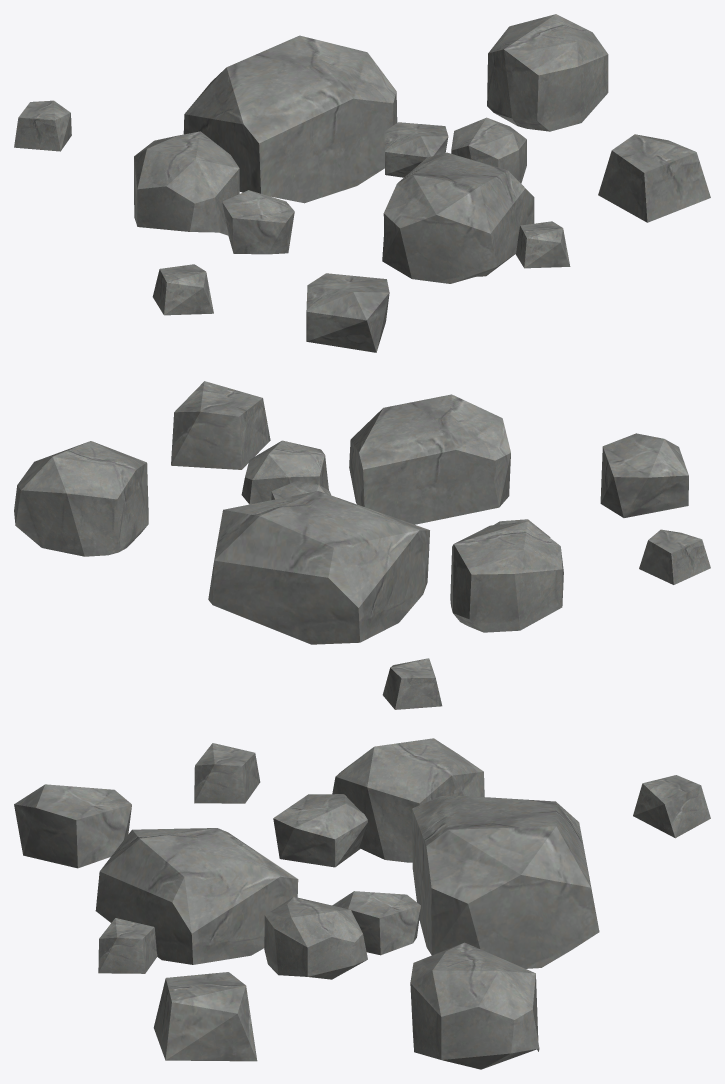
The model's file is CollectibleStone (4).fbx.
The picture shows the model from 3 angles, top to bottom: view 1: azimuth 30°, elevation 25°; view 2: azimuth 150°, elevation 25°; view 3: azimuth 270°, elevation 25°; orthographic projection. The views are drawn at different scales.
Parts seen in each view (by area): view 1: ItemBox_Pebbles_01; view 2: ItemBox_Pebbles_01; view 3: ItemBox_Pebbles_01.
Part boxes in pixels (x1,y1,x2,y2): ItemBox_Pebbles_01: (14,14,710,352); ItemBox_Pebbles_01: (14,381,710,709); ItemBox_Pebbles_01: (14,738,710,1069).
Bounding box in the file's own units: 1.49 × 0.2794 × 1.44.
1 material, 1 textured.
